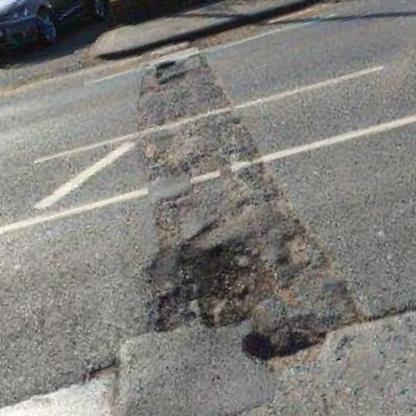pothole: (125, 209, 293, 346), (235, 306, 332, 377), (149, 52, 190, 93)
